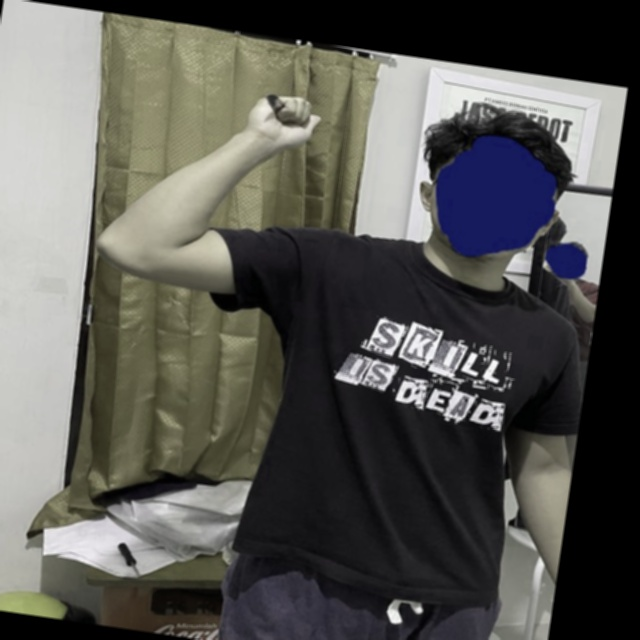Sharp-Object: (262, 92, 287, 116)
